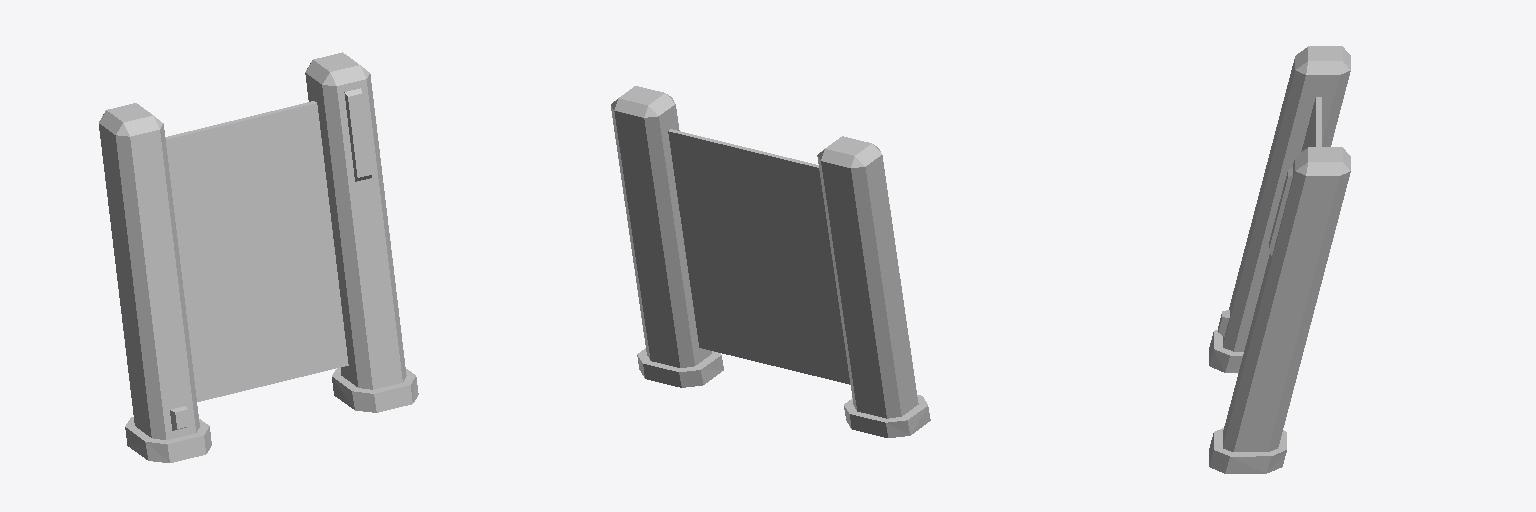
Rendered from Briefing_Screen_Blue.obj.
3 views of the same model, side by side, from view 1: azimuth 30°, elevation 25°; view 2: azimuth 150°, elevation 25°; view 3: azimuth 270°, elevation 25° (orthographic).
Visible parts, largest first — view 1: Briefing_Screen_Blue; view 2: Briefing_Screen_Blue; view 3: Briefing_Screen_Blue.
Boxes of the visible parts, <box> form: Briefing_Screen_Blue: <box>99,52,418,462</box>; Briefing_Screen_Blue: <box>611,86,930,437</box>; Briefing_Screen_Blue: <box>1209,46,1350,473</box>.
Bounding box in the file's own units: 2.95 × 3.16 × 1.34.